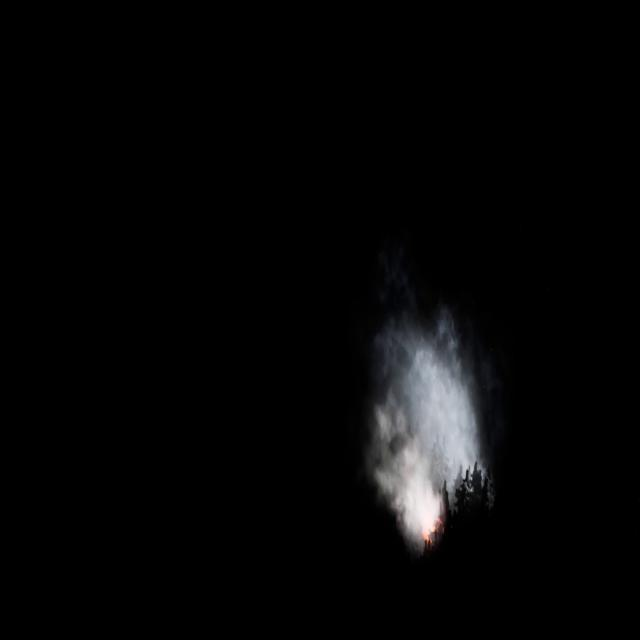smoke: (367, 306, 484, 545)
